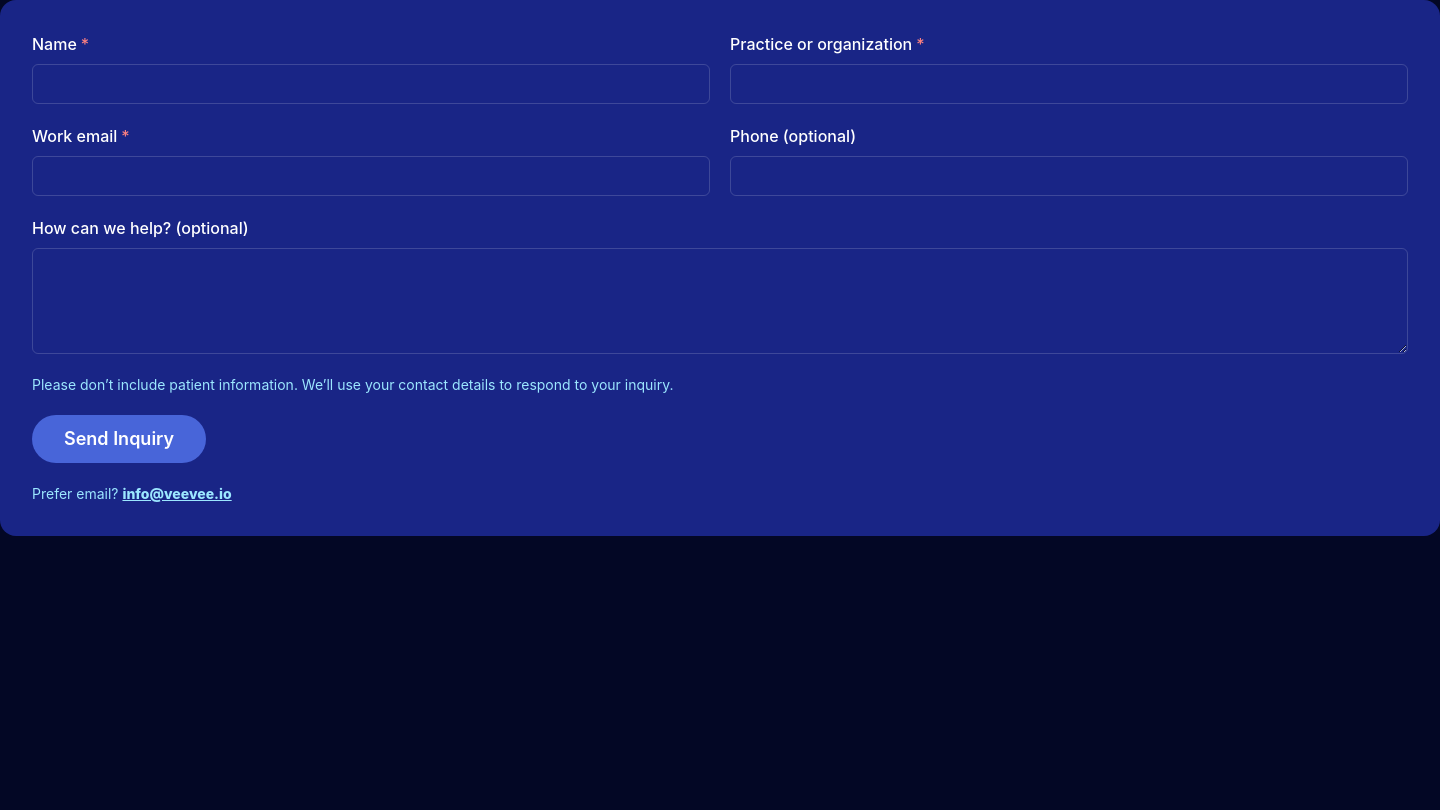
Test: Provider inquiry › does not show success for an invalid successful HTTP response
In the field labelled "Name*": (371, 84) [32, 64, 710, 104], type "Test Contact"
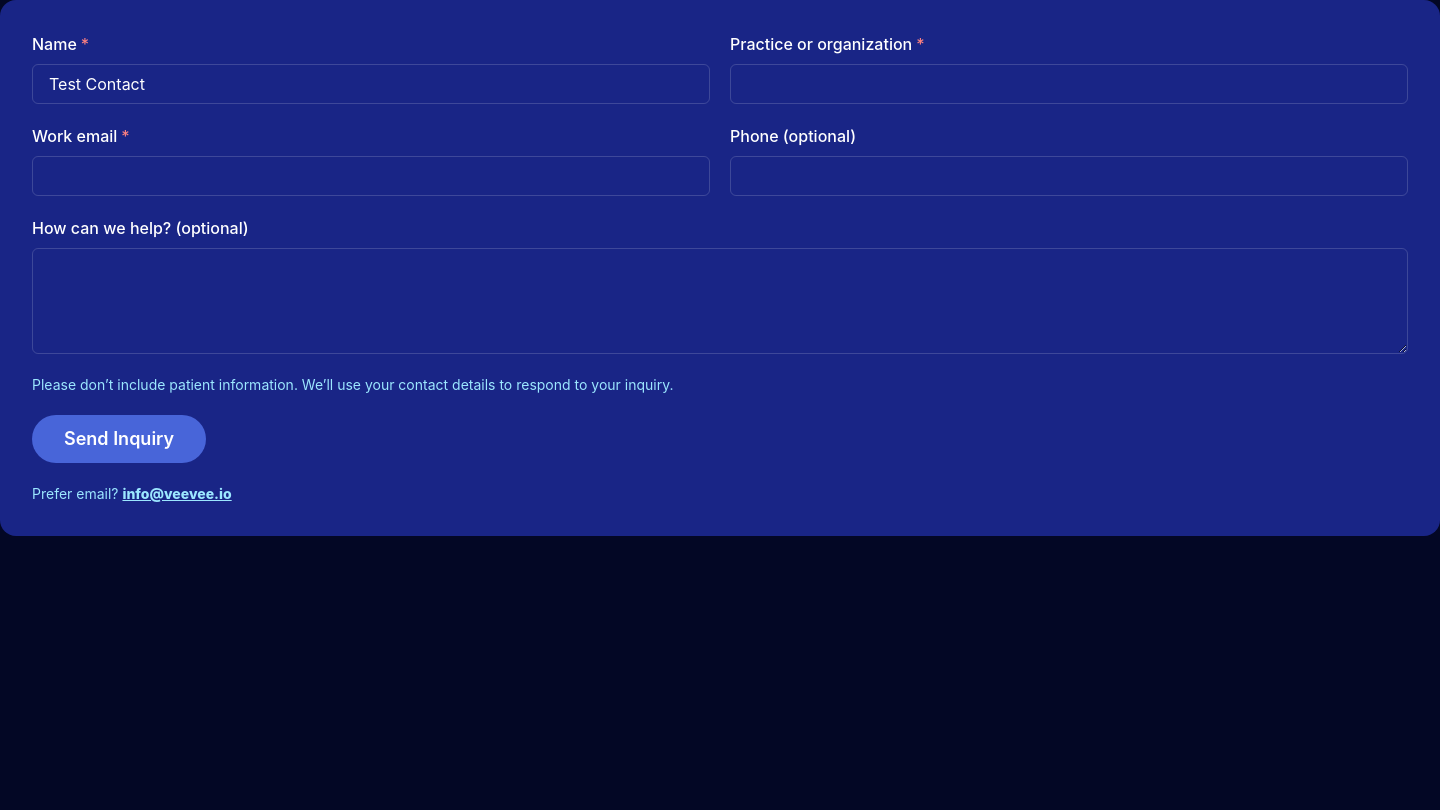
In the field labelled "Practice or organization*": (1069, 84) [730, 64, 1408, 104], type "Example Practice"
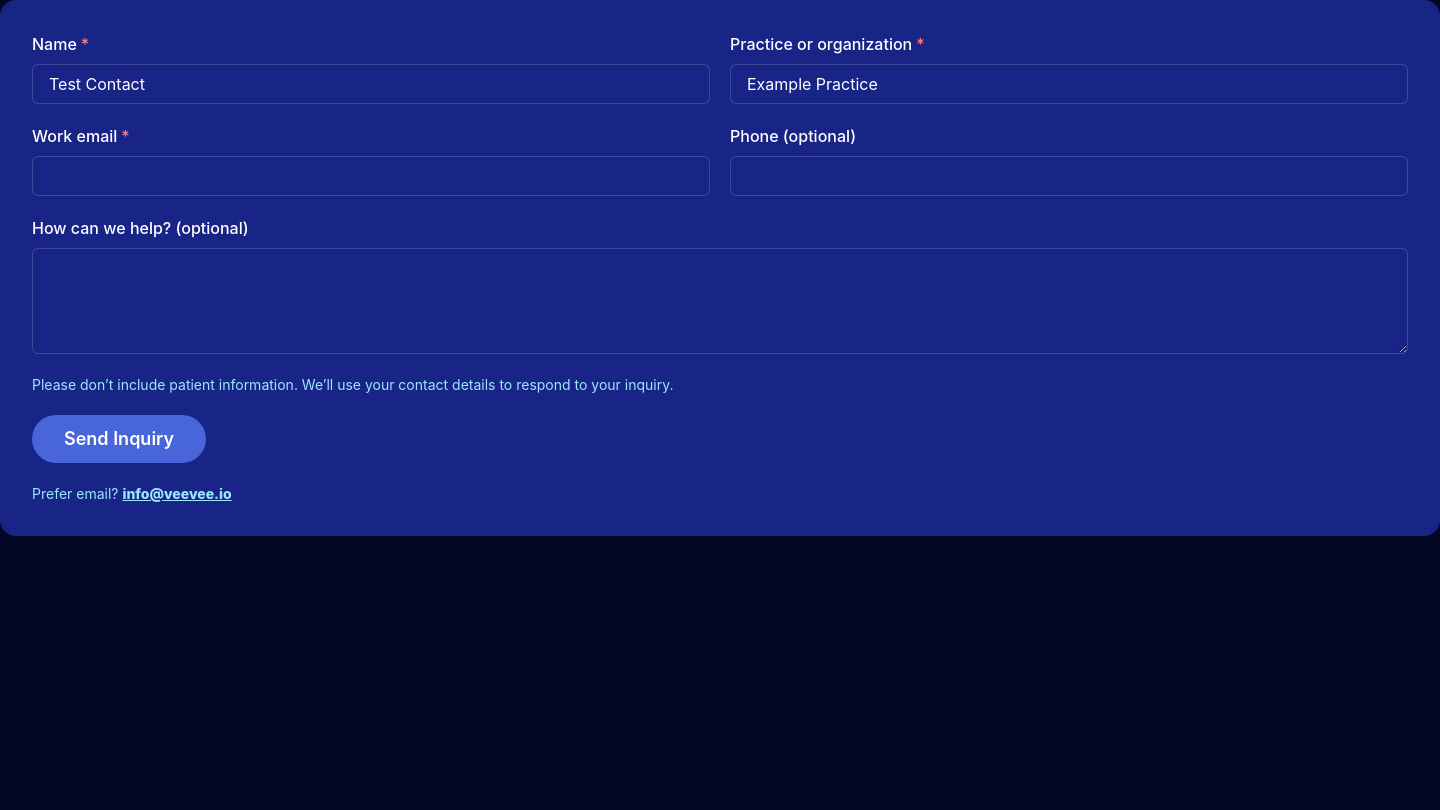
In the field labelled "Work email*": (371, 176) [32, 156, 710, 196], type "person@example.com"
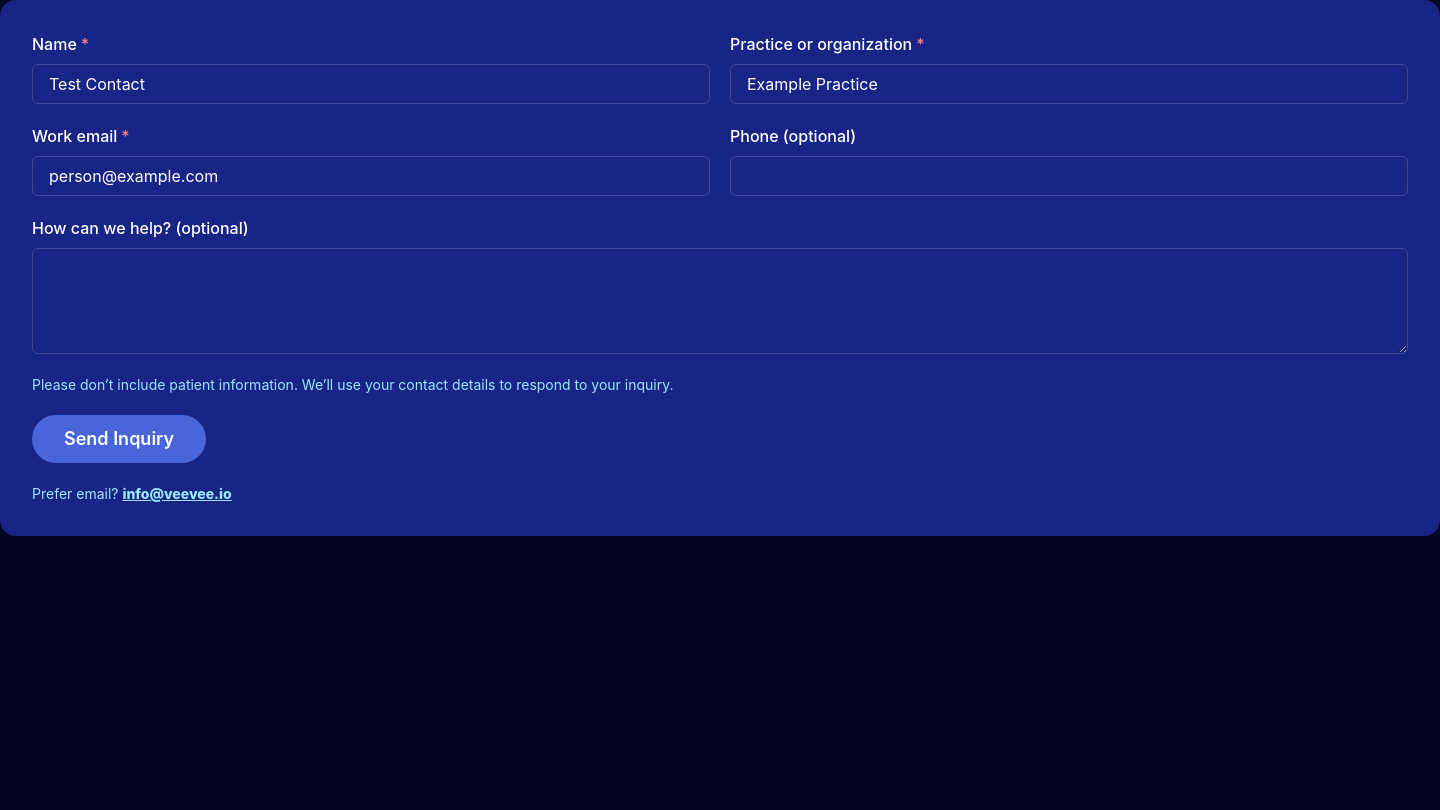
Submit the form
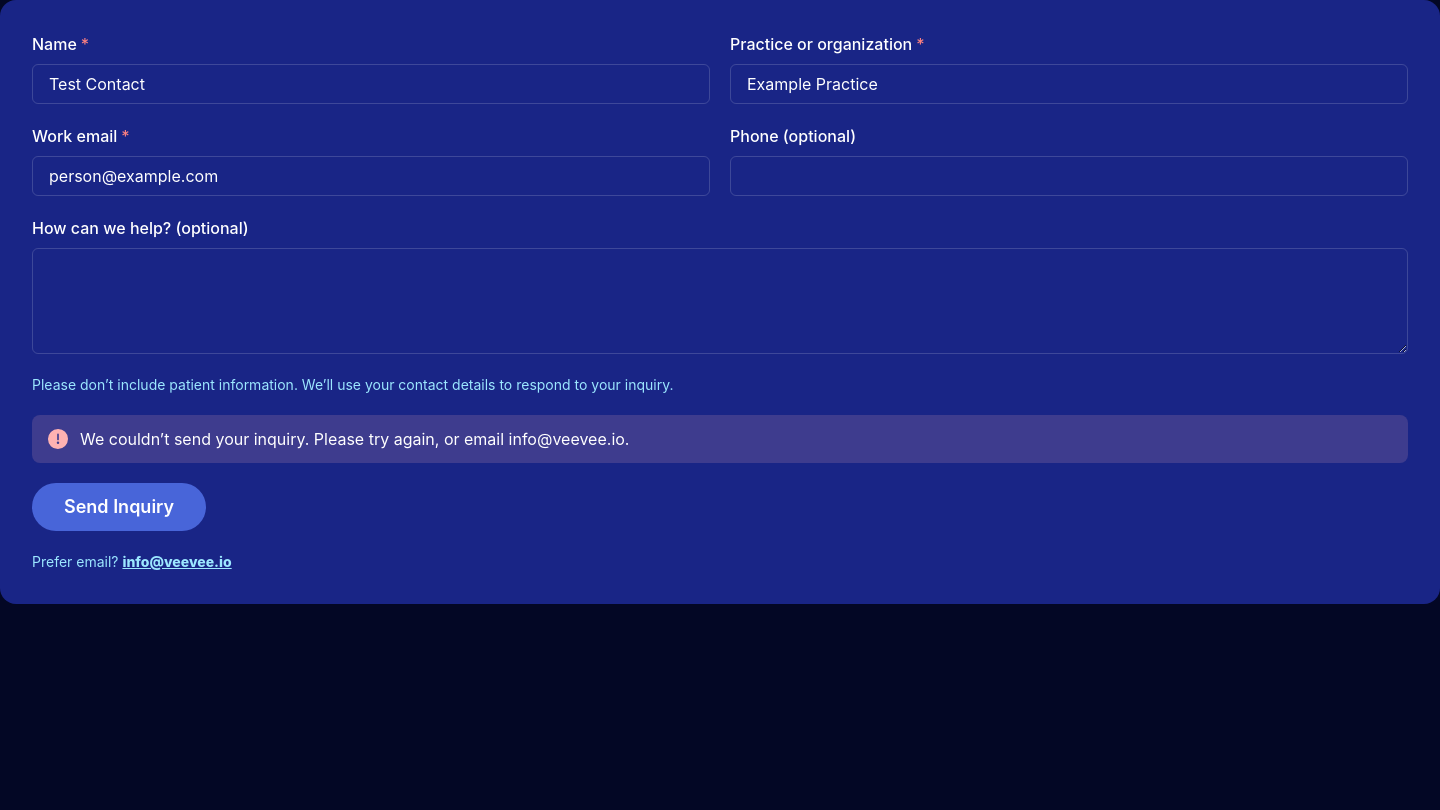
Now the message shows "We couldn’t send your inquiry", box [80, 429, 630, 449]
